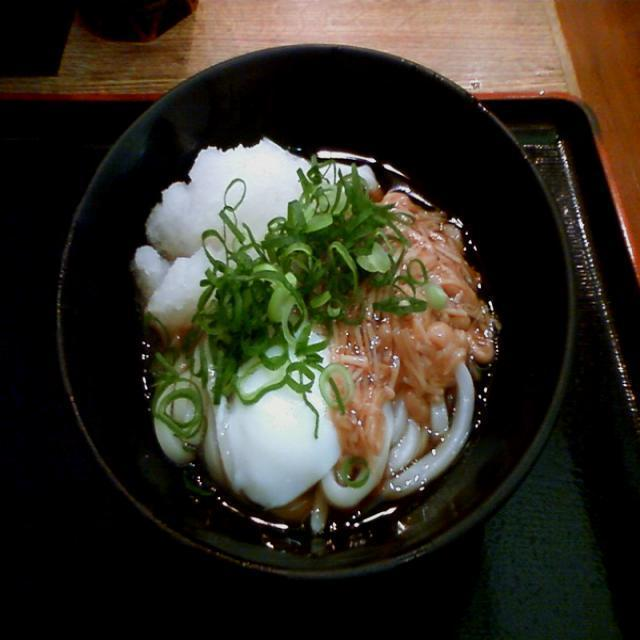udon-noodle: (116, 120, 492, 536)
